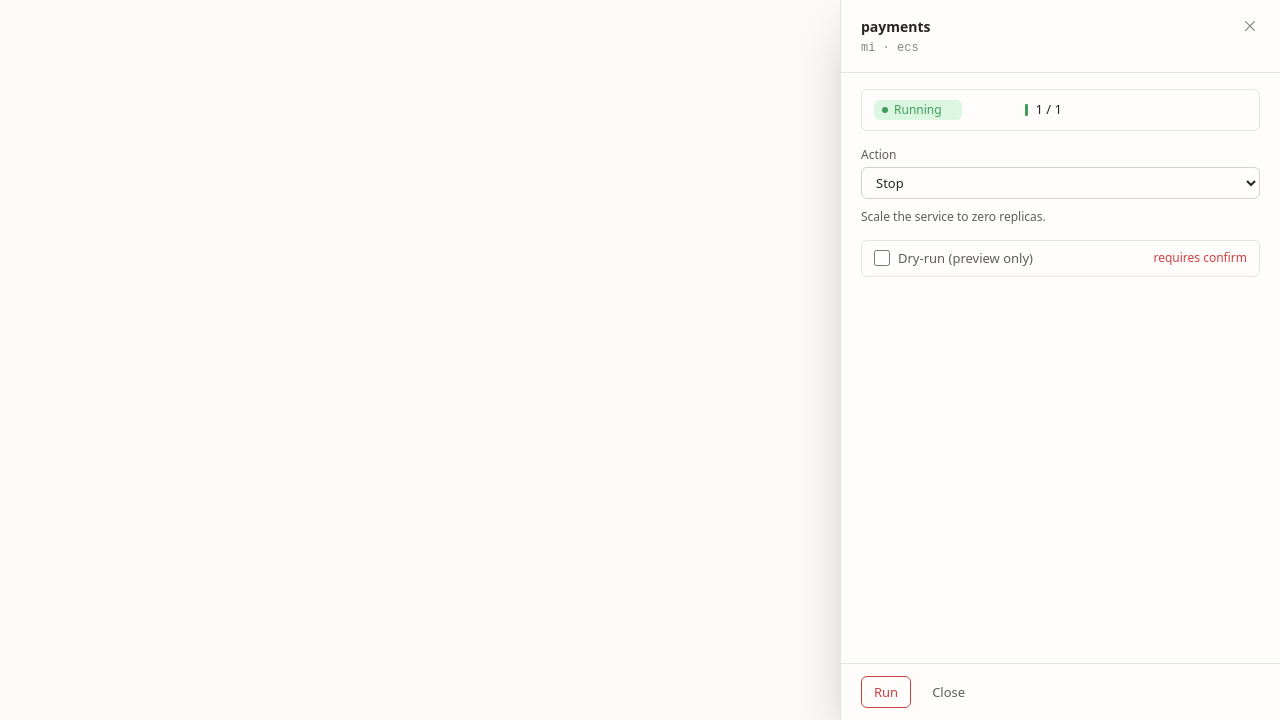
<ChaosDrawer mode=actions/> destructive flow › surfaces CONFIRM_REQUIRED from the server as an error
Select "Stop" in the dropdown labelled "Action" at [1060, 183], box [861, 167, 1260, 199]
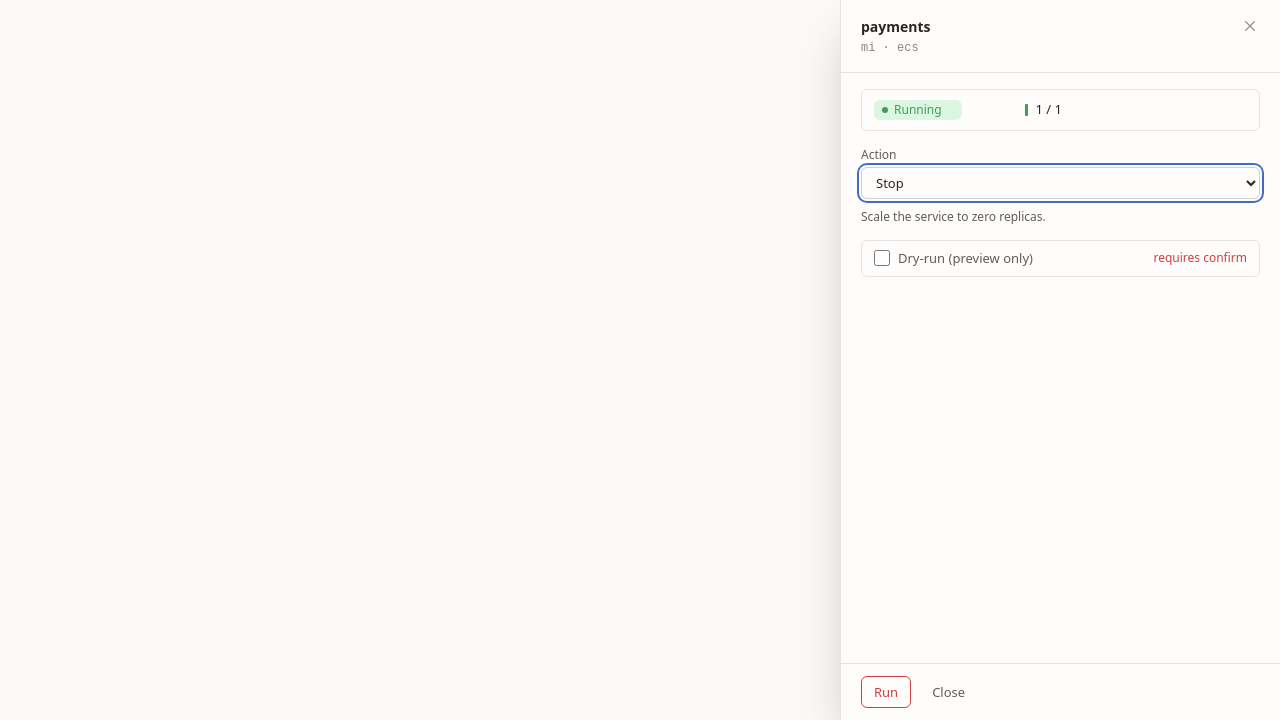
Click the button "Run" at [886, 692], box [861, 676, 911, 708]
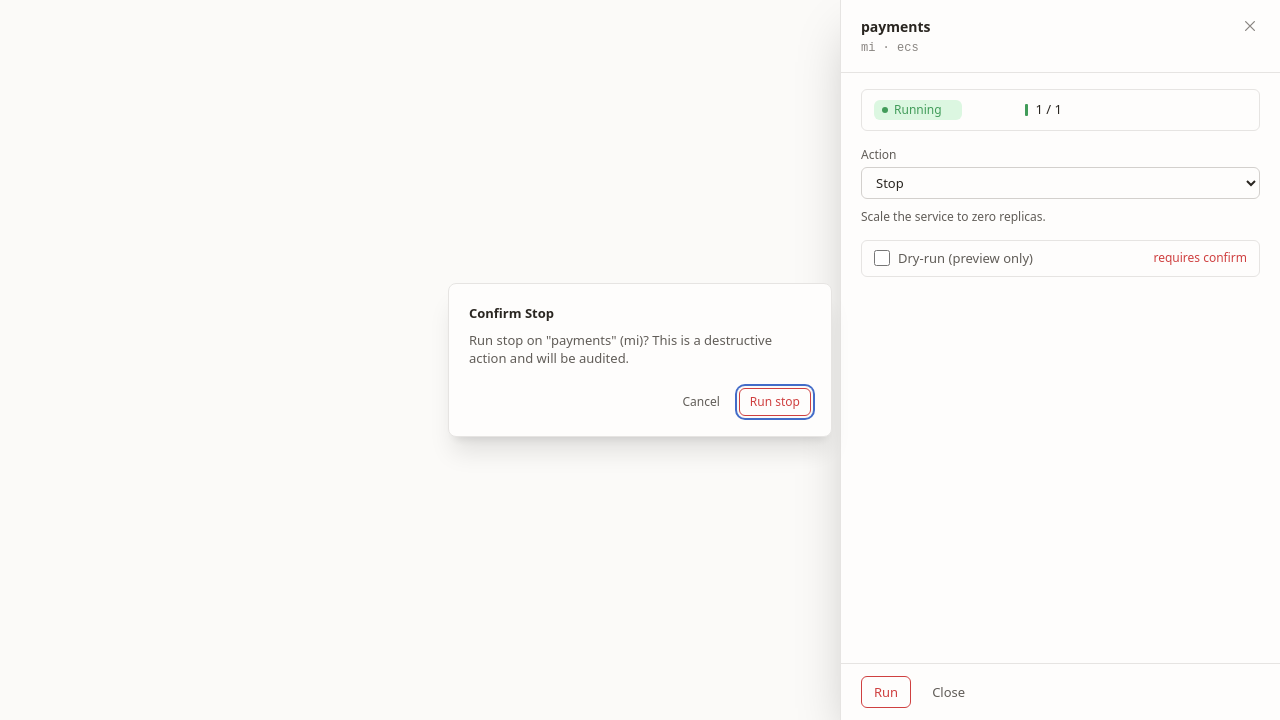
Click the button "Run stop" at [775, 402], box [739, 388, 811, 416]
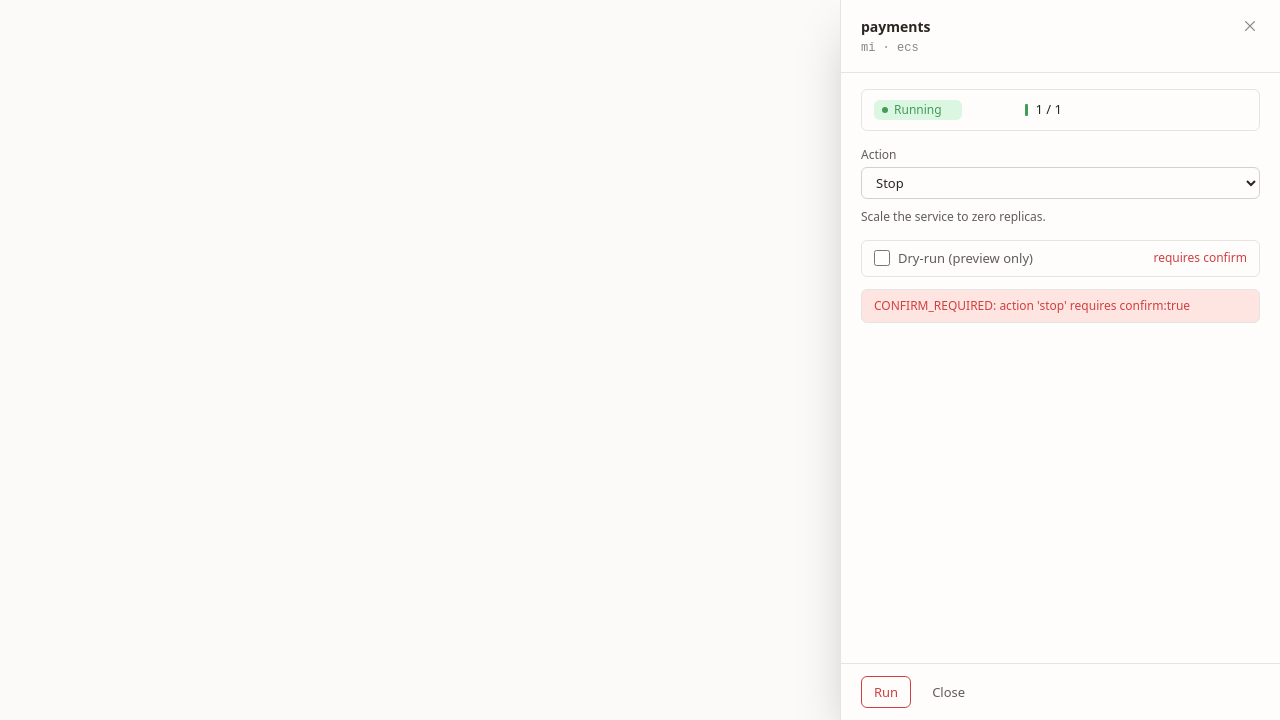
Check: the message shows "requires confirm", box [874, 296, 1190, 314]
